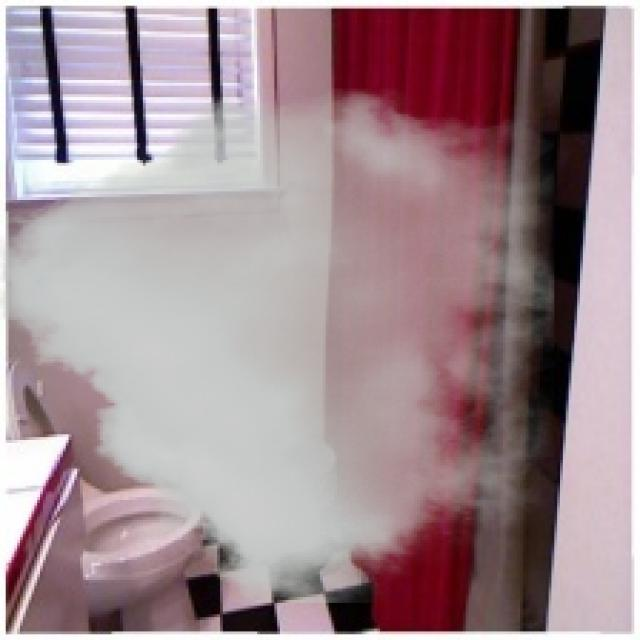smoke: (0, 88, 555, 603)
